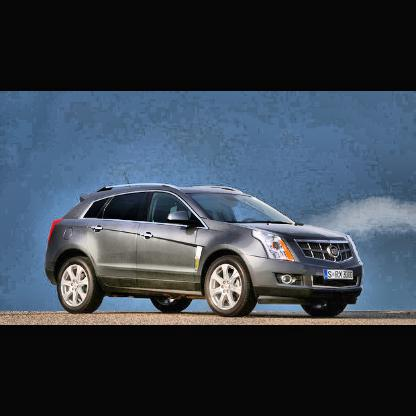Cadillac SRX SUV 2012: (44, 174, 368, 323)
